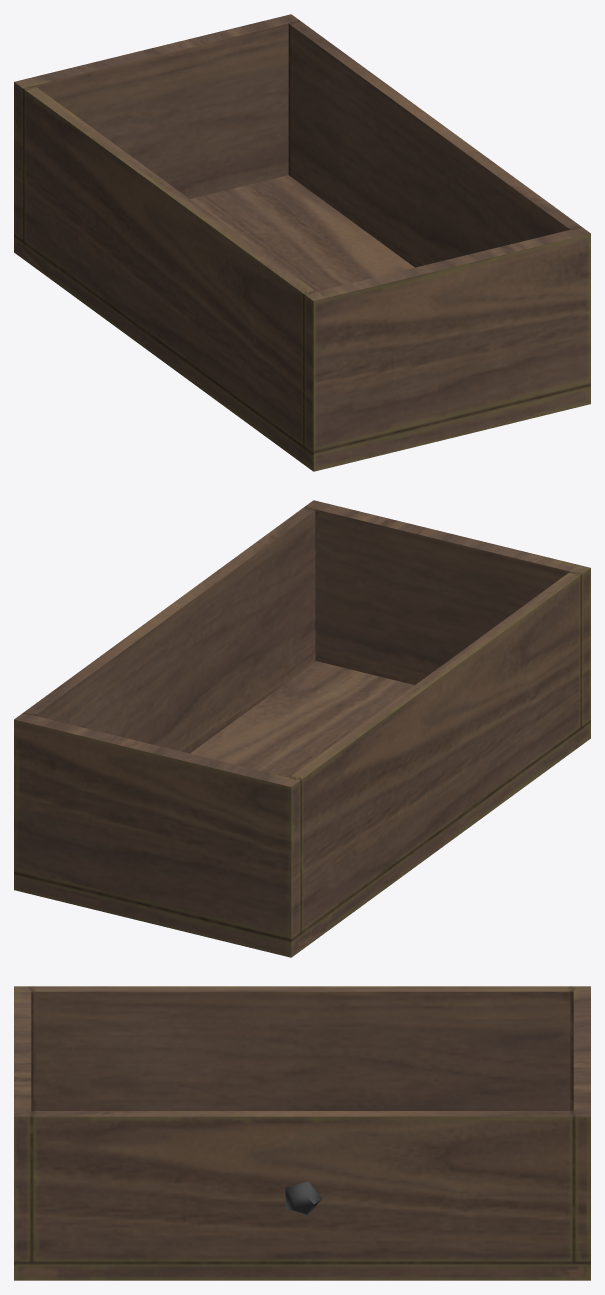
The model's file is Chest_drawers_01_001-col.glb.
3 renders of one model, top to bottom at view 1: azimuth 30°, elevation 25°; view 2: azimuth 150°, elevation 25°; view 3: azimuth 270°, elevation 25°, orthographic. The views are drawn at different scales.
Parts seen in each view (by area): view 1: Chest_drawers_01.001-col; view 2: Chest_drawers_01.001-col; view 3: Chest_drawers_01.001-col.
Boxes of the visible parts, bbox=[...] form: Chest_drawers_01.001-col: bbox=[14, 14, 590, 471]; Chest_drawers_01.001-col: bbox=[14, 500, 590, 957]; Chest_drawers_01.001-col: bbox=[14, 986, 590, 1280].
Bounding box in the file's own units: 1.33 × 0.7014 × 2.23.
1 material, 1 textured.
